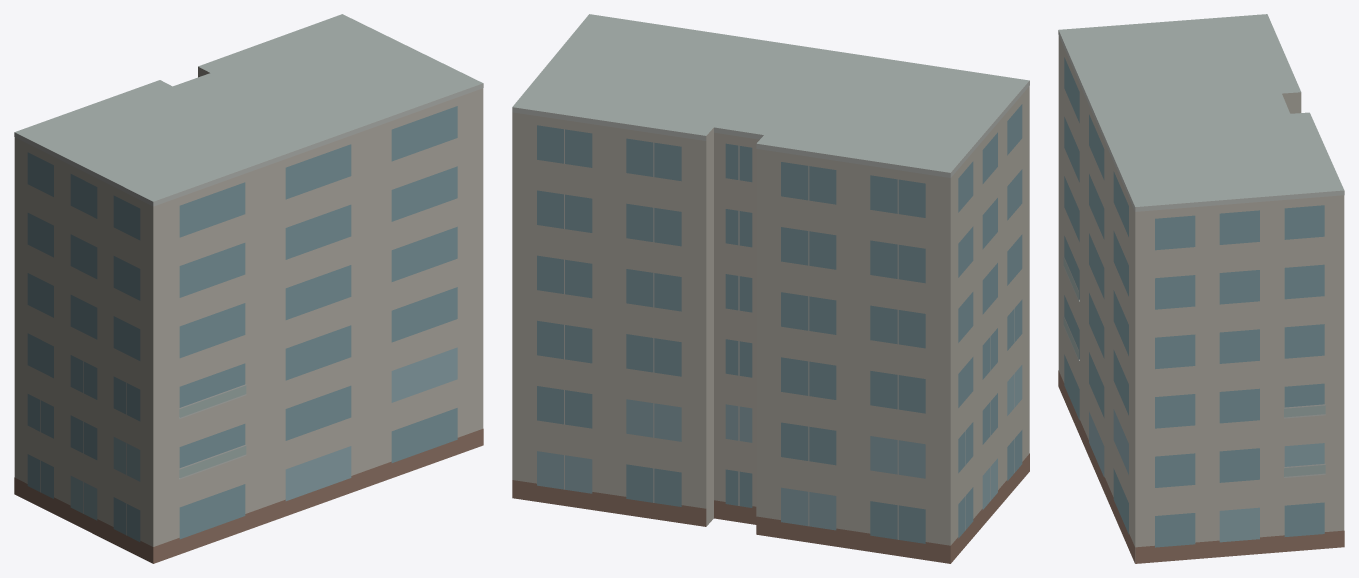
The model's file is survey-upis-32641918.glb.
3 views of the same model, side by side, from view 1: azimuth 30°, elevation 25°; view 2: azimuth 150°, elevation 25°; view 3: azimuth 270°, elevation 25° (orthographic). The views are drawn at different scales.
Parts seen in each view (by area): view 1: survey-upis-32641918.tmp; view 2: survey-upis-32641918.tmp; view 3: survey-upis-32641918.tmp.
Boxes of the visible parts, x1=… form: survey-upis-32641918.tmp: x1=14, y1=14, x2=483, y2=563; survey-upis-32641918.tmp: x1=512, y1=14, x2=1029, y2=563; survey-upis-32641918.tmp: x1=1058, y1=14, x2=1344, y2=563.
Size of the model in its own units: 21.26 by 18.3 by 13.31.
